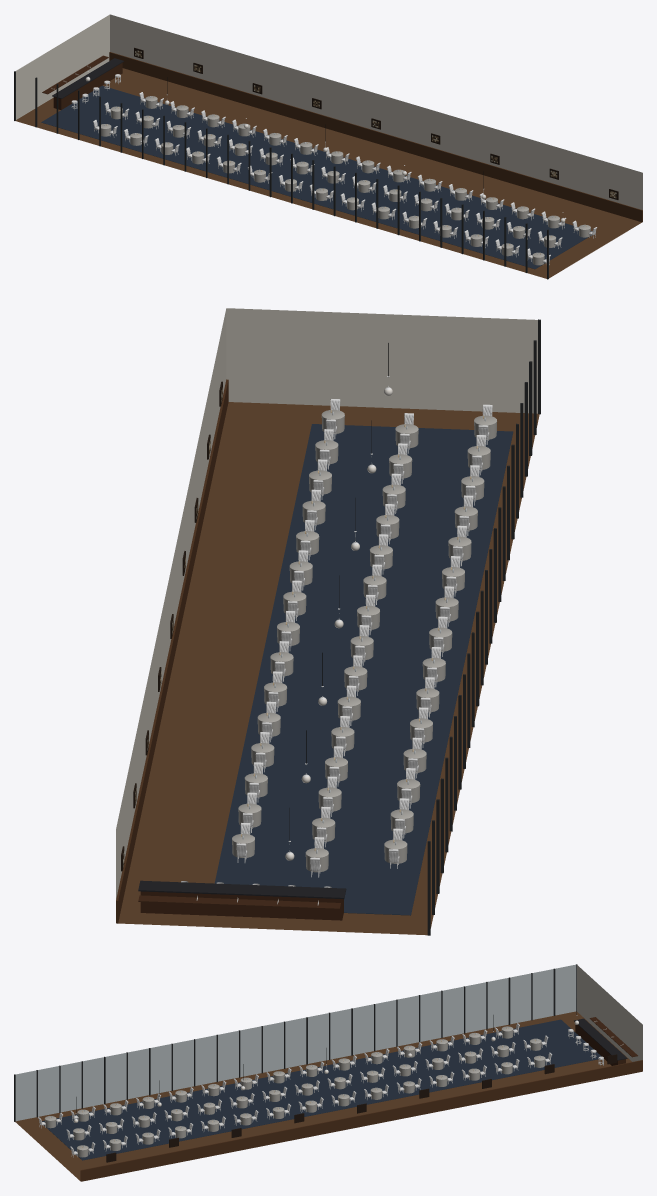
The model's file is cliffHouse_int.glb.
3 renders of one model, top to bottom at view 1: azimuth 30°, elevation 25°; view 2: azimuth 150°, elevation 25°; view 3: azimuth 270°, elevation 25°, orthographic. The views are drawn at different scales.
Parts seen in each view (by area): view 1: I_x_plaster, I_x_carpet_blue, I_x_wood_floor, I_x_veneer, I_x_velvet, I_p_dining_chair_02__0, I_metal, I_x_marble_black, I_x_gold, I_d_paint; view 2: I_x_carpet_blue, I_x_wood_floor, I_x_plaster, I_x_velvet, I_p_dining_chair_02__0, I_metal, I_x_veneer, I_x_marble_black; view 3: I_glassI, I_x_carpet_blue, I_x_wood_floor, I_x_veneer, I_x_velvet, I_p_dining_chair_02__0, I_x_plaster, I_metal, I_x_gold, I_x_marble_black.
Part boxes in pixels (box(x1,y1,x2,y2)): I_x_plaster: box(16, 14, 642, 209); I_x_carpet_blue: box(41, 85, 591, 269); I_x_wood_floor: box(16, 68, 641, 278); I_x_veneer: box(42, 52, 642, 222); I_x_velvet: box(101, 96, 590, 265); I_p_dining_chair_02__0: box(93, 92, 597, 265); I_metal: box(14, 71, 548, 279); I_x_marble_black: box(52, 58, 124, 98); I_x_gold: box(134, 47, 618, 199); I_d_paint: box(135, 49, 616, 198); I_x_carpet_blue: box(214, 424, 513, 915); I_x_wood_floor: box(118, 402, 539, 935); I_x_plaster: box(116, 308, 537, 899); I_x_velvet: box(232, 409, 497, 872); I_p_dining_chair_02__0: box(236, 399, 492, 877); I_metal: box(289, 319, 540, 935); I_x_veneer: box(116, 379, 343, 923); I_x_marble_black: box(138, 880, 346, 899); I_glassI: box(15, 964, 576, 1146); I_x_carpet_blue: box(42, 1019, 601, 1160); I_x_wood_floor: box(15, 1011, 631, 1180); I_x_veneer: box(80, 1017, 642, 1181); I_x_velvet: box(44, 1026, 545, 1157); I_p_dining_chair_02__0: box(38, 1023, 552, 1157); I_x_plaster: box(577, 965, 642, 1061); I_metal: box(14, 964, 577, 1121); I_x_gold: box(106, 1054, 617, 1162); I_x_marble_black: box(574, 1018, 627, 1060).
Bounding box in the file's own units: 35.96 × 4.6 × 55.95.
